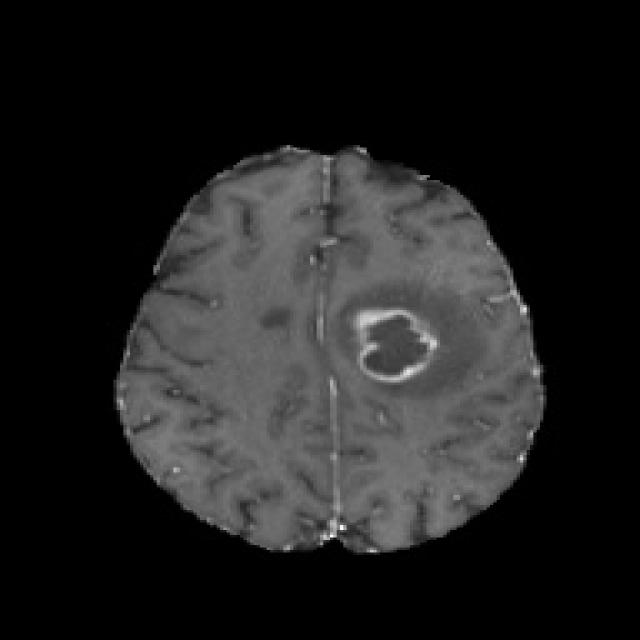negative: (350, 304, 440, 386)
